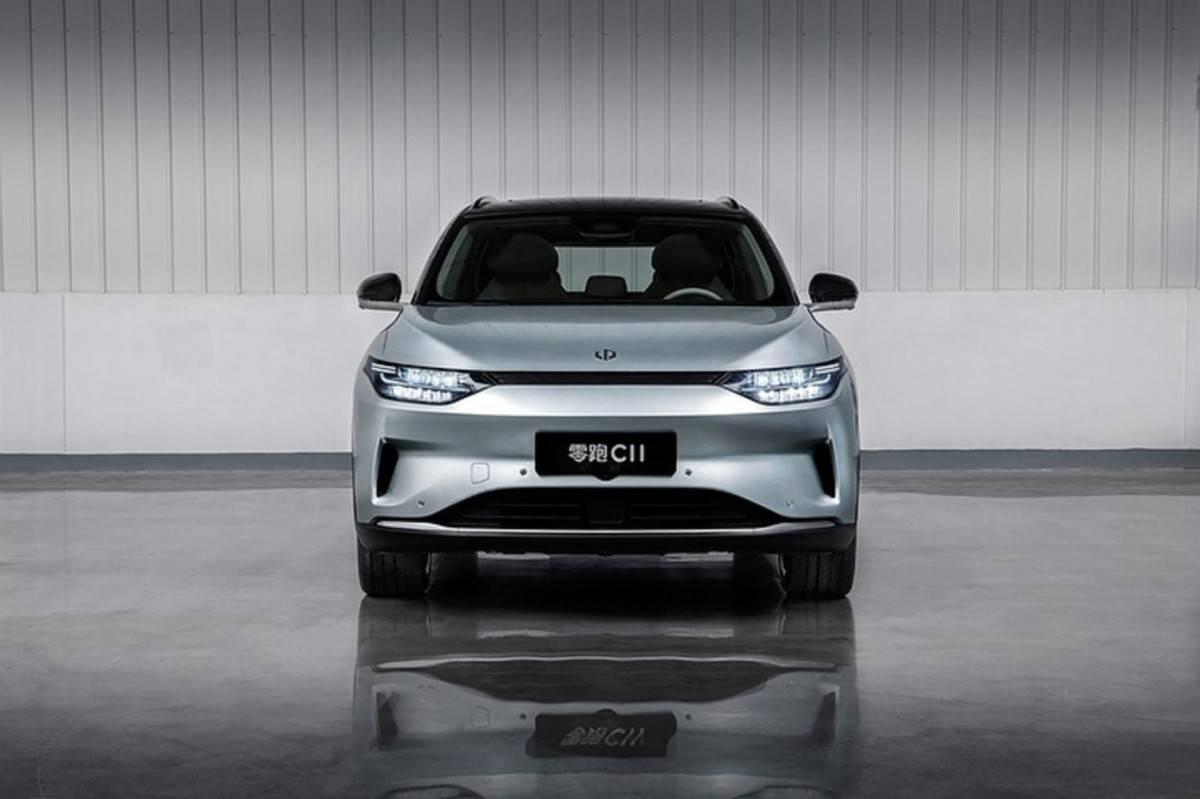LEAPMOTOR: (593, 346, 618, 362)
